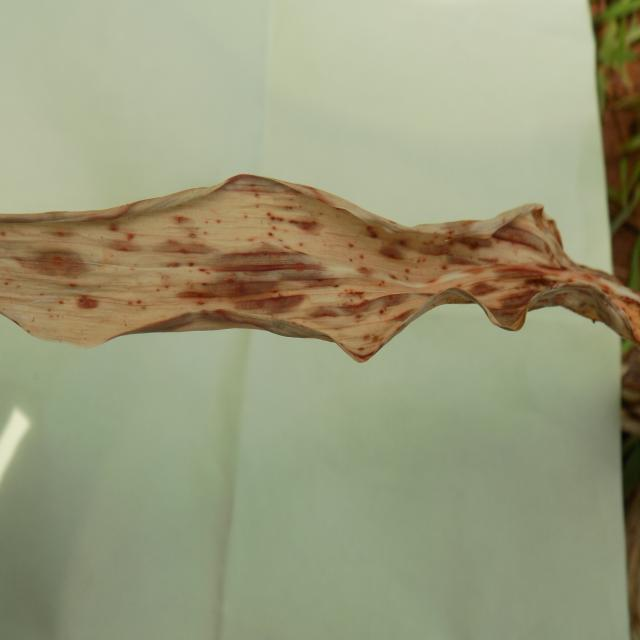millet_rust: (0, 172, 606, 363)
